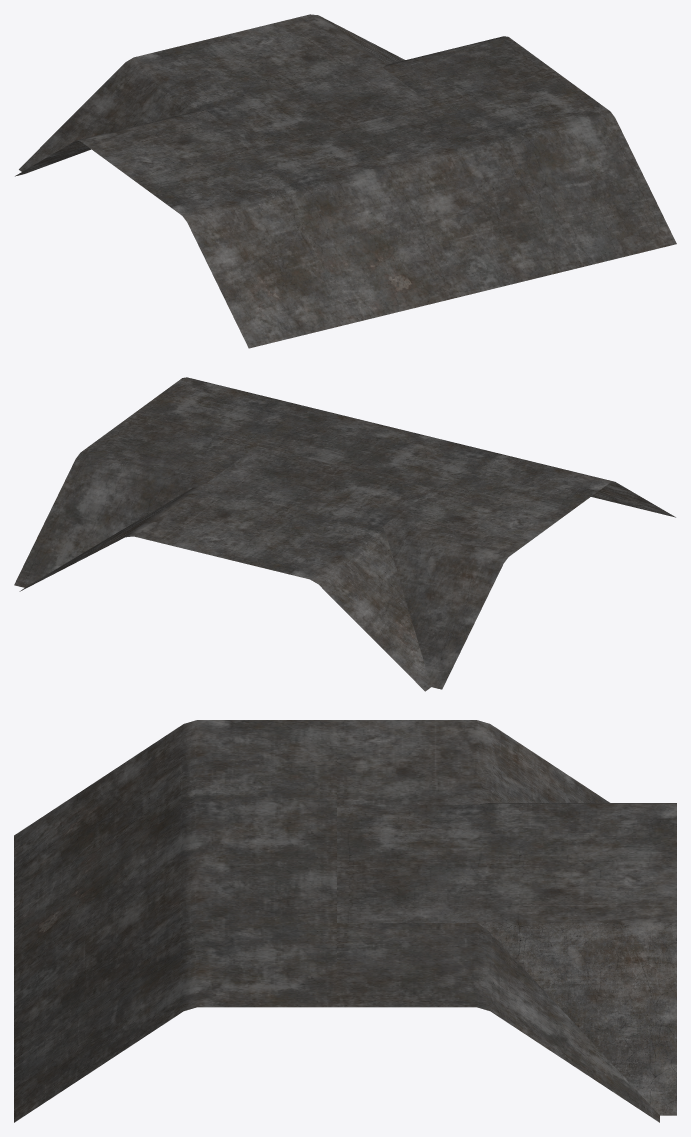
Rendered from Basement_Corridor_A_Ceiling_Arched_T_Junction.glb.
3 views of the same model, one above another, from view 1: azimuth 30°, elevation 25°; view 2: azimuth 150°, elevation 25°; view 3: azimuth 270°, elevation 25° (orthographic). The views are drawn at different scales.
Parts seen in each view (by area): view 1: Basement_Corridor_A_Ceiling_Arched_T_Junction; view 2: Basement_Corridor_A_Ceiling_Arched_T_Junction; view 3: Basement_Corridor_A_Ceiling_Arched_T_Junction.
Boxes of the visible parts, x1,y1,x2,y2 form: Basement_Corridor_A_Ceiling_Arched_T_Junction: (15, 14, 676, 348); Basement_Corridor_A_Ceiling_Arched_T_Junction: (14, 377, 675, 691); Basement_Corridor_A_Ceiling_Arched_T_Junction: (14, 720, 676, 1122).
Size of the model in its own units: 4 by 0.75 by 3.9.
1 material, 1 textured.
